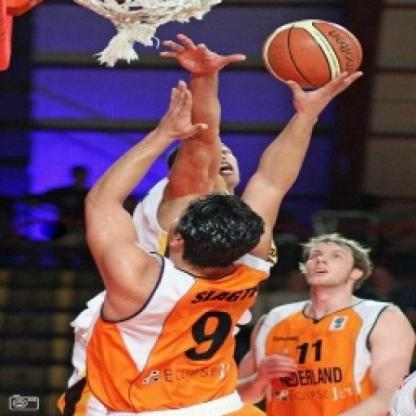basketball: (259, 16, 365, 92)
